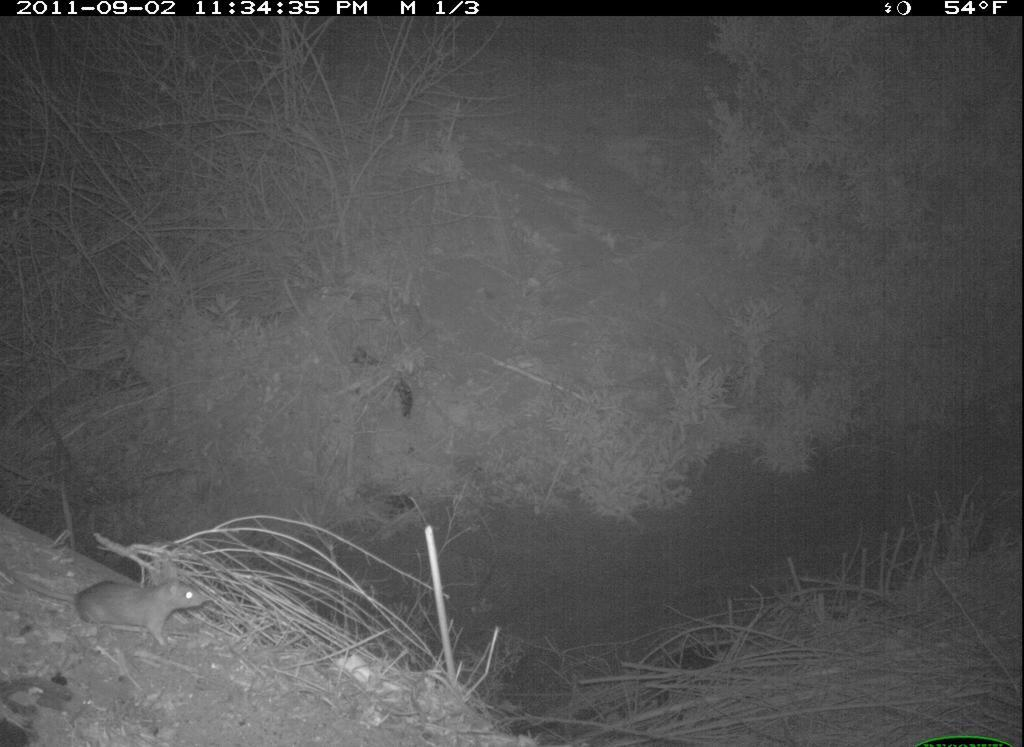rodent: (11, 553, 218, 656)
